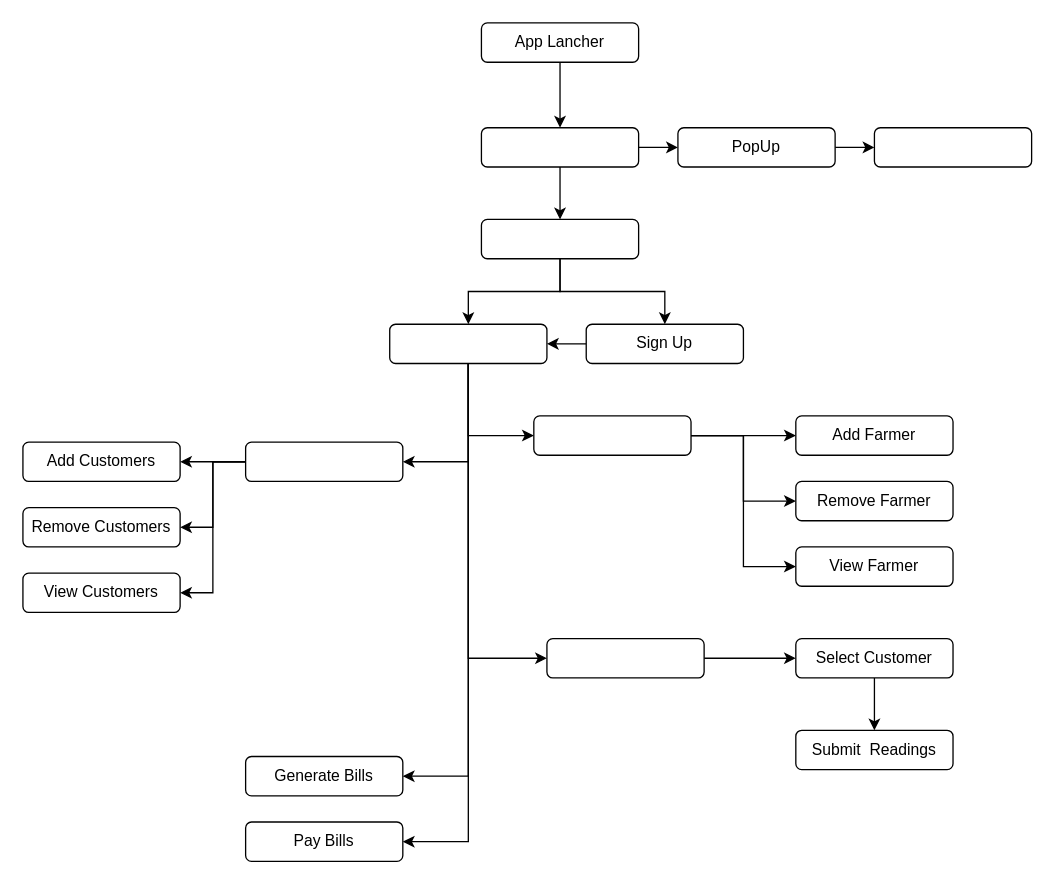
Image size: 1055x884. Some labels were removed from this diagram. Each missing label, with the centre of its shape:
"Manage Customers" belongs at (323,461).
"Manage Farmers" belongs at (612,435).
"Milk Collector Home Page" belongs at (467,343).
"Select Language" belongs at (952,146).
"Sign In/ Sign Up" belongs at (559,238).
"Take Readings" belongs at (625,657).
"Welcome Screen" belongs at (559,146).
